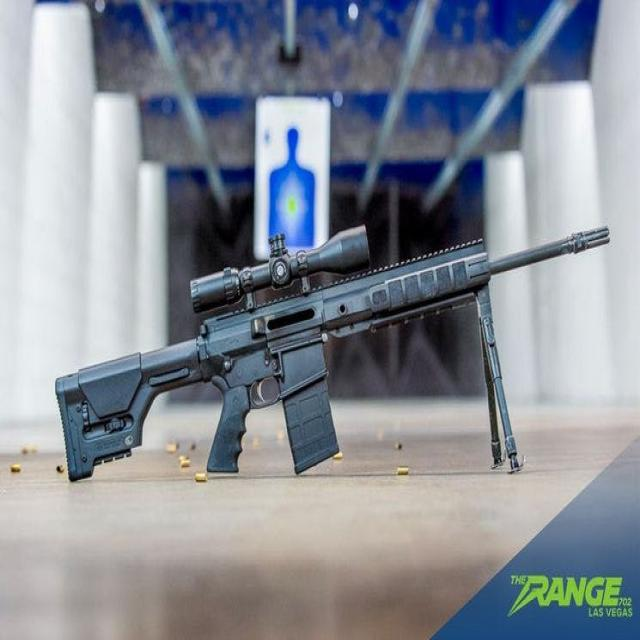Rifle: (55, 227, 613, 480)
